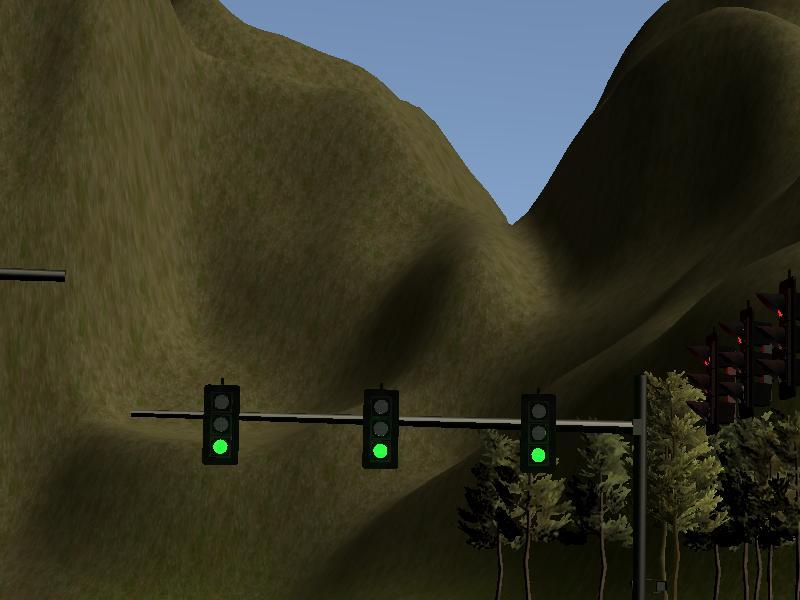Green: (361, 386, 397, 469), (205, 383, 239, 462), (520, 393, 553, 471)
